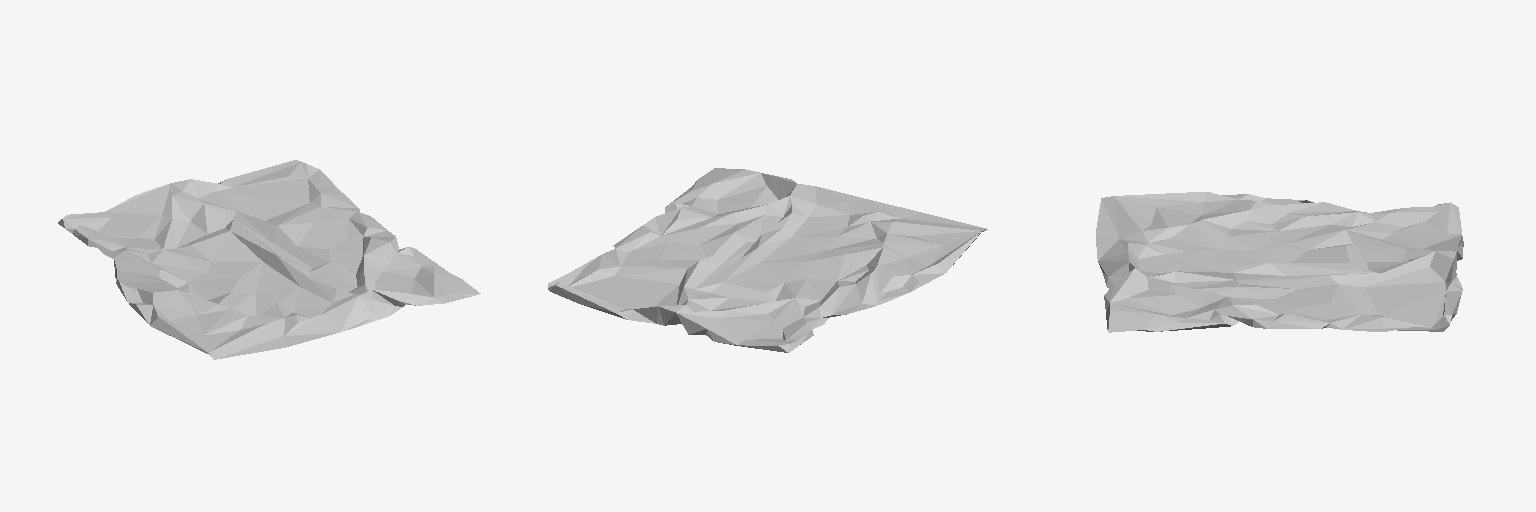
The model's file is Blanket_Floor.obj.
3 renders of one model, left to right at view 1: azimuth 30°, elevation 25°; view 2: azimuth 150°, elevation 25°; view 3: azimuth 270°, elevation 25°, orthographic.
Visible parts, largest first — view 1: Blanket_Floor_LOD0_Bed02_LOD0.018; view 2: Blanket_Floor_LOD0_Bed02_LOD0.018; view 3: Blanket_Floor_LOD0_Bed02_LOD0.018.
Part boxes in pixels (x1,y1,x2,y2): Blanket_Floor_LOD0_Bed02_LOD0.018: (58,160,480,359); Blanket_Floor_LOD0_Bed02_LOD0.018: (548,168,987,352); Blanket_Floor_LOD0_Bed02_LOD0.018: (1096,192,1463,332).
Bounding box in the file's own units: 1.8 × 0.1092 × 2.02.